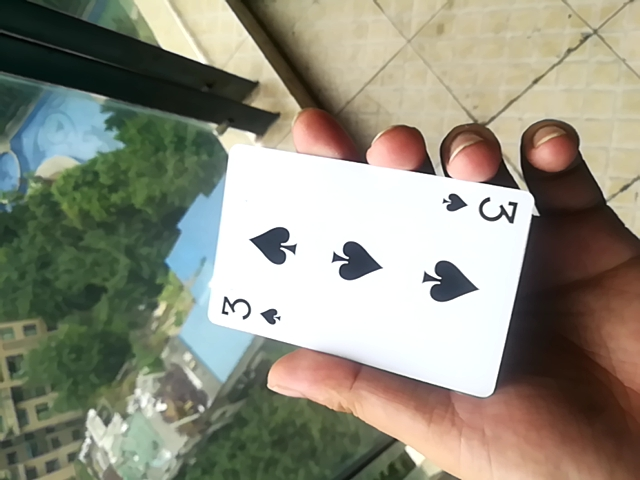ht 3: (199, 137, 542, 401)
